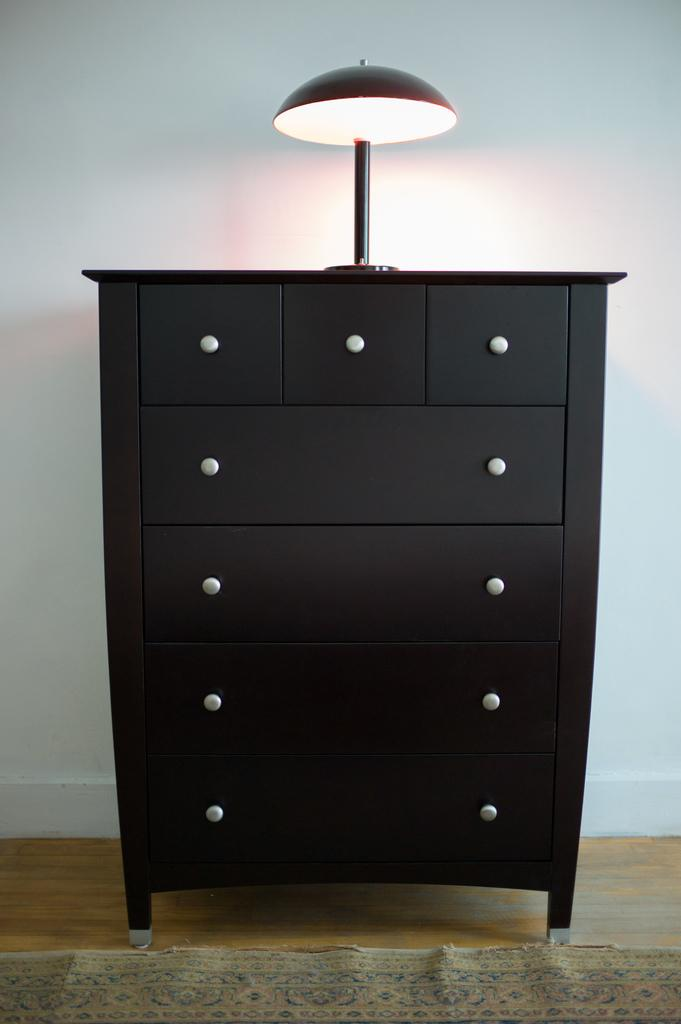cabinet_door: (147, 411, 564, 525), (148, 534, 560, 646), (168, 764, 546, 874), (157, 660, 556, 760), (427, 280, 566, 414), (287, 282, 424, 410), (142, 286, 282, 402)
handle: (193, 318, 223, 356), (338, 330, 368, 368), (484, 442, 506, 490), (488, 328, 515, 366), (201, 678, 224, 722), (200, 556, 222, 596), (205, 794, 228, 830), (481, 686, 502, 722), (200, 446, 222, 478), (482, 795, 500, 832), (488, 570, 506, 603)
